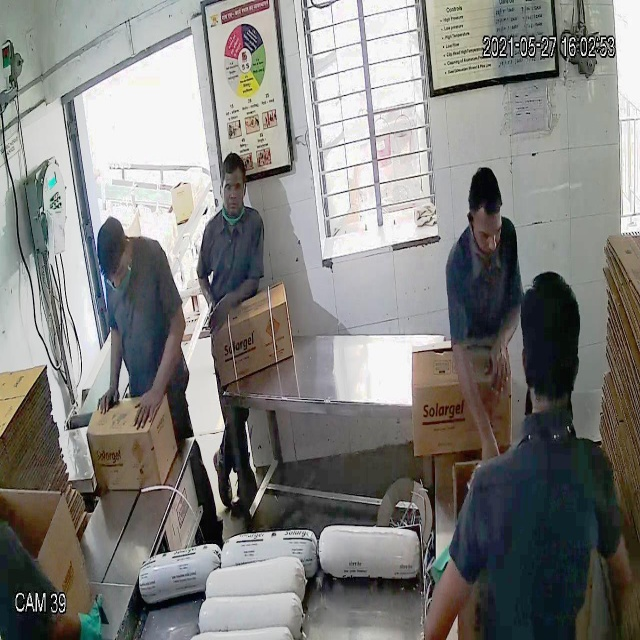Sin_gafas: (465, 212, 510, 250), (215, 176, 250, 200)
